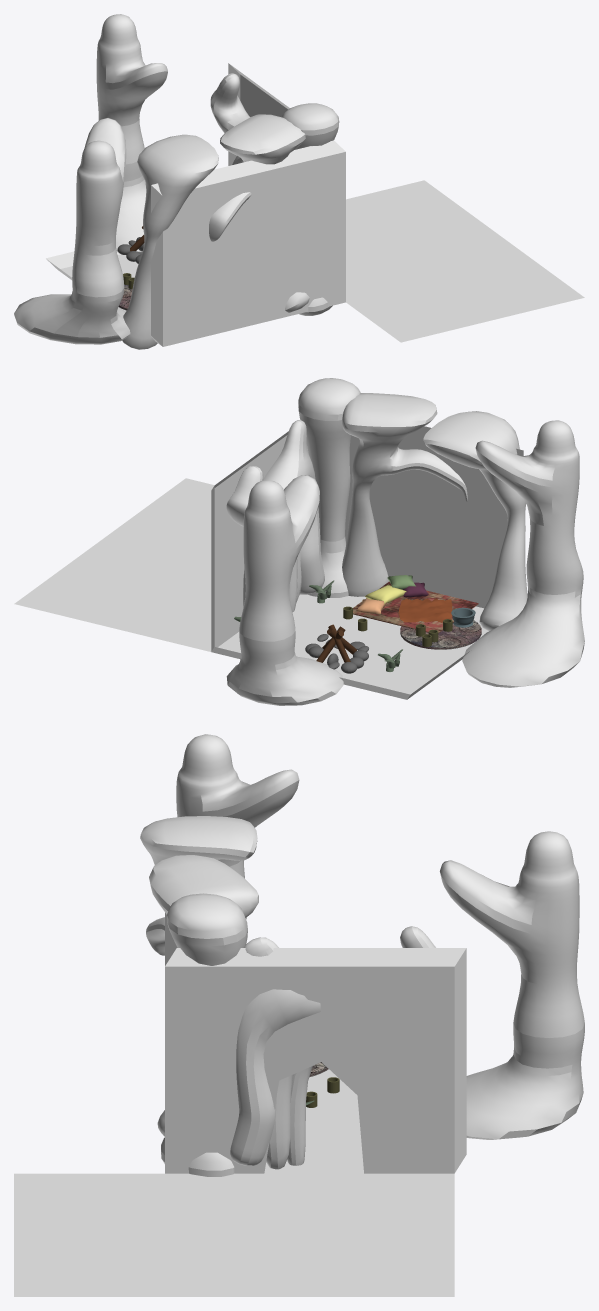
The model's file is GGJ_2026-Home 1.fbx.
The picture shows the model from 3 angles, top to bottom: view 1: azimuth 30°, elevation 25°; view 2: azimuth 150°, elevation 25°; view 3: azimuth 270°, elevation 25°; orthographic projection. The views are drawn at different scales.
Parts seen in each view (by area): view 1: Cube.008, Cube.017, Cube.016, Cube.010, Cube.011, Cube.009, Cube.014; view 2: Cube.008, Cube.017, Cube.016, Cube.011, Cube.010, Cube.009, Cube.014, Cube.015, Cylinder.001, Plane.004, Plane.001; view 3: Cube.008, Cube.016, Cube.014, Cube.017, Cube.009, Cube.011, Cube.010, Cube.013, Cube.012.
Part boxes in pixels (box(x1,y1,x2,y2)): Cube.008: box(46, 63, 584, 346); Cube.017: box(14, 117, 130, 344); Cube.016: box(96, 14, 167, 254); Cube.010: box(122, 134, 218, 349); Cube.011: box(209, 114, 309, 312); Cube.009: box(282, 103, 339, 315); Cube.014: box(210, 73, 250, 132); Cube.008: box(14, 426, 523, 699); Cube.017: box(462, 420, 584, 687); Cube.016: box(226, 475, 343, 705); Cube.011: box(342, 393, 467, 596); Cube.010: box(423, 411, 527, 631); Cube.009: box(298, 378, 360, 597); Cube.014: box(226, 420, 324, 594); Cube.015: box(353, 581, 478, 633); Cylinder.001: box(400, 620, 481, 649); Plane.004: box(398, 598, 452, 622); Plane.001: box(365, 584, 406, 603); Cube.008: box(14, 912, 466, 1296); Cube.016: box(439, 831, 584, 1139); Cube.014: box(230, 926, 435, 1165); Cube.017: box(176, 734, 299, 919); Cube.009: box(161, 893, 247, 1176); Cube.011: box(146, 855, 258, 1136); Cube.010: box(140, 816, 257, 864); Cube.013: box(266, 1074, 293, 1169); Cube.012: box(287, 1065, 313, 1165).
Bounding box in the file's own units: 17.96 × 14 × 8.05.
